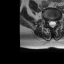CCS_normal: (51, 19, 53, 29)
LFS_severe_stenosis: (56, 18, 58, 23)
LLS_normal: (53, 19, 56, 28)
RFS_severe_stenosis: (46, 18, 49, 24)
RLS_normal: (49, 18, 51, 28)
